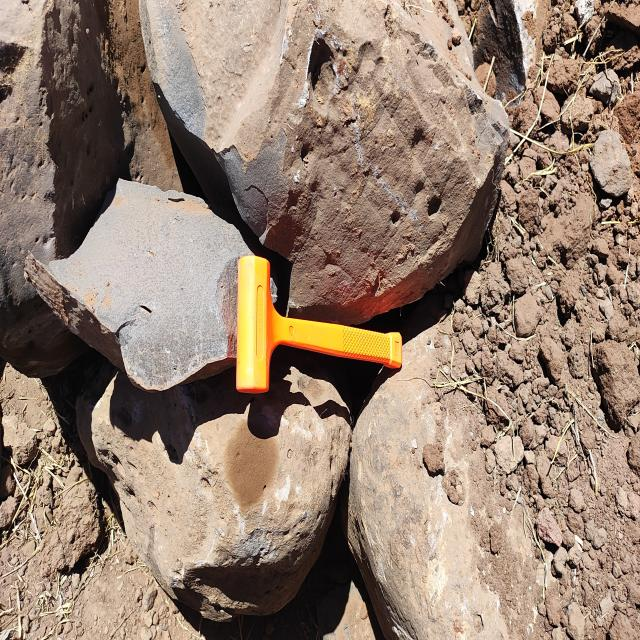Orange_hammer: (235, 253, 403, 395)
